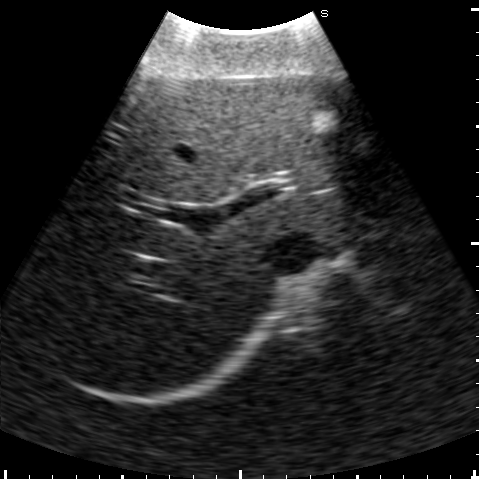IVC: (267, 235, 319, 276)
S1: (230, 195, 362, 245)
S2: (322, 184, 429, 224)
S3: (274, 73, 411, 193)
S4: (143, 73, 333, 202)
Tumor: (309, 110, 335, 132)
